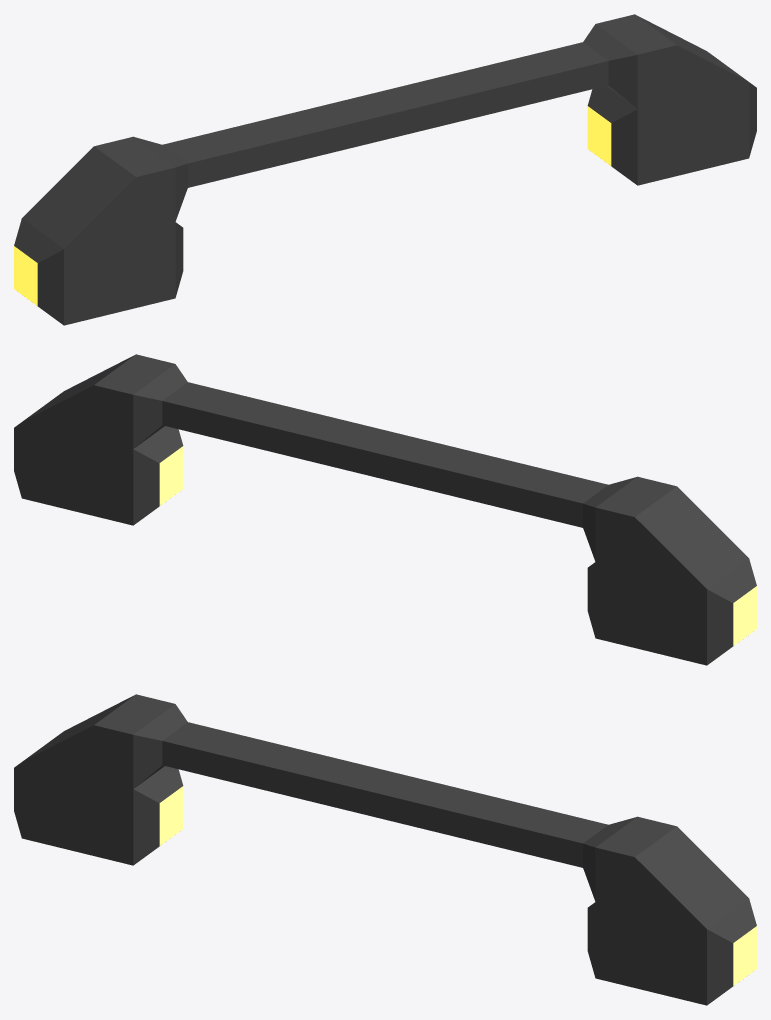
Rendered from orbithammer.fbx.
3 renders of one model, top to bottom at view 1: azimuth 30°, elevation 25°; view 2: azimuth 150°, elevation 25°; view 3: azimuth 330°, elevation 25°, orthographic.
Visible parts, largest first — view 1: orbithammer; view 2: orbithammer; view 3: orbithammer.
Part boxes in pixels (x1,y1,x2,y2): orbithammer: [14, 14, 756, 325]; orbithammer: [14, 354, 756, 665]; orbithammer: [14, 694, 756, 1005].
Size of the model in its own units: 1969 by 342 by 200.
